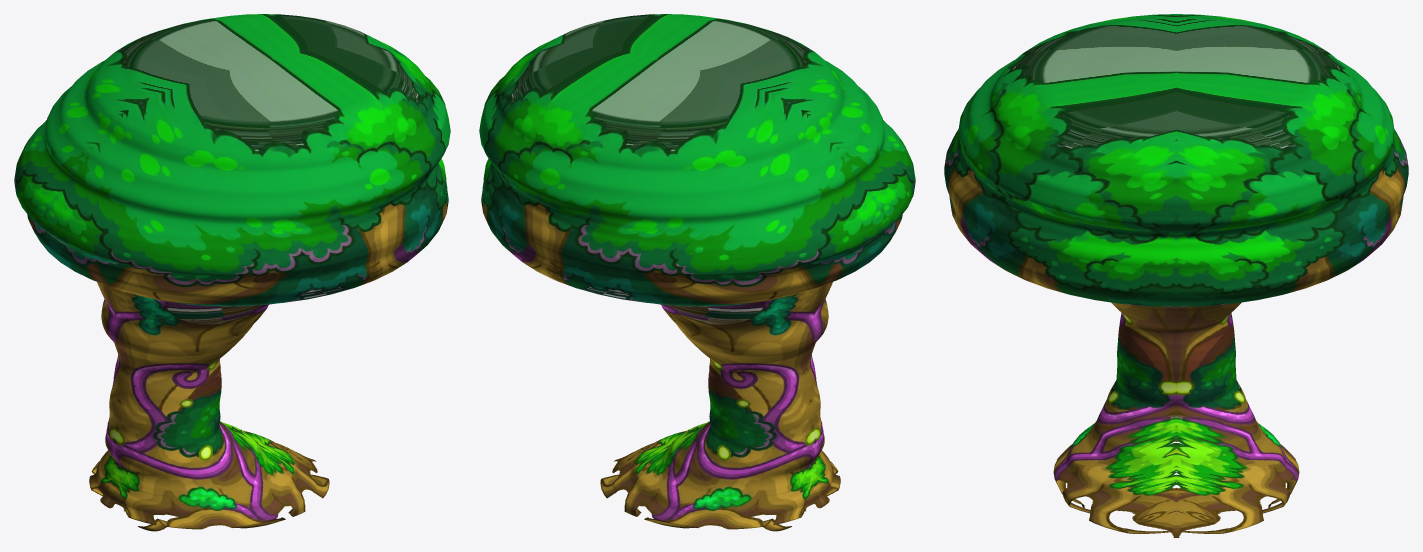
File: tree_left.glb
3 views of the same model, side by side, from view 1: azimuth 30°, elevation 25°; view 2: azimuth 150°, elevation 25°; view 3: azimuth 270°, elevation 25° (orthographic). The views are drawn at different scales.
Visible parts, largest first — view 1: tree_left; view 2: tree_left; view 3: tree_left.
Part boxes in pixels (x1,y1,x2,y2): tree_left: [14, 14, 450, 531]; tree_left: [479, 14, 915, 531]; tree_left: [944, 14, 1408, 537].
Size of the model in its own units: 0.9966 by 1.06 by 0.9811.
Materials: 1 (1 with a texture image).
